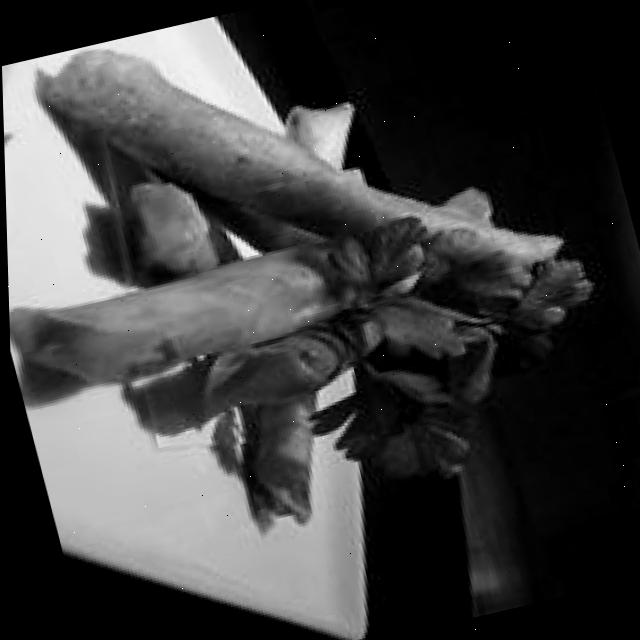鸡蛋料理: (0, 0, 498, 453)
